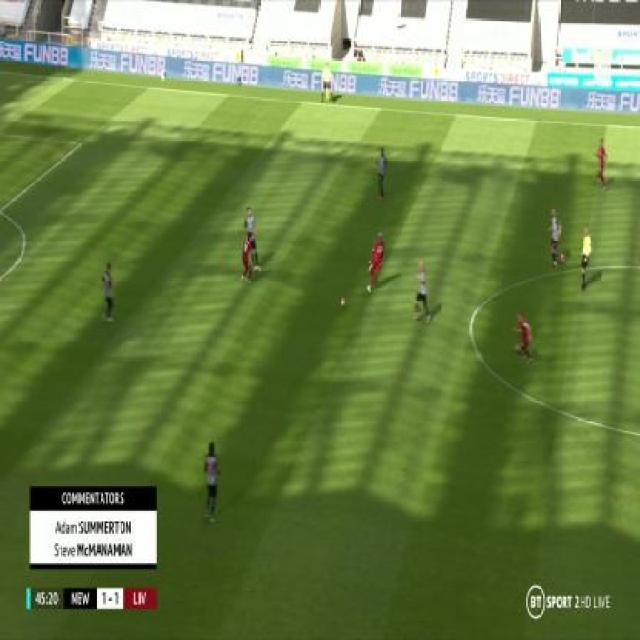ball: (339, 296, 347, 307)
player: (200, 439, 223, 530), (240, 209, 260, 288), (412, 258, 434, 327), (365, 231, 387, 297), (547, 207, 569, 273), (513, 310, 535, 370), (578, 226, 595, 294), (99, 261, 116, 327), (594, 134, 610, 196), (374, 147, 390, 203), (320, 63, 339, 108)
